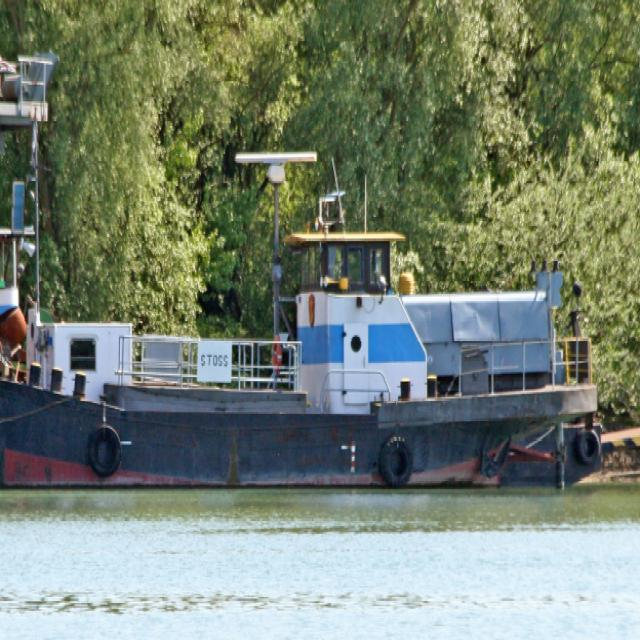tugboat: (1, 149, 613, 498)
